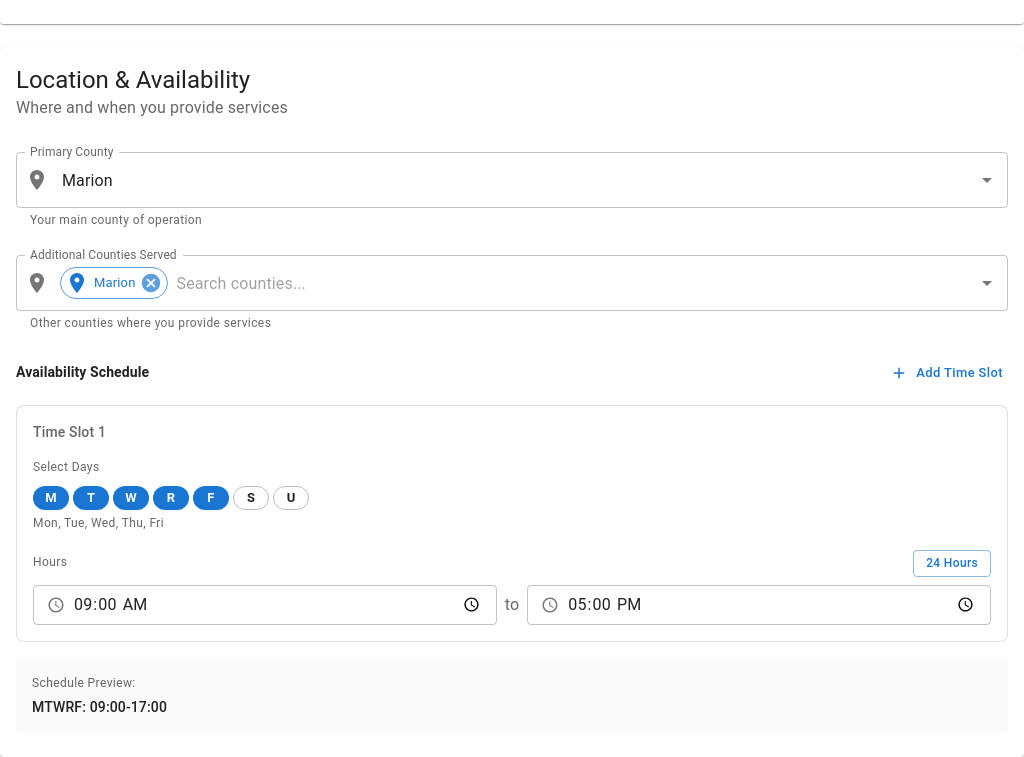
Test case: Edit Agency Page - Component Tests › Availability Schedule › Multiple Time Slots › can remove a time slot (when more than one exists)
The image size is (1024, 757).
(page scrolled)
Click the button "Add Time Slot".
click(948, 373)  # box [887, 358, 1008, 389]
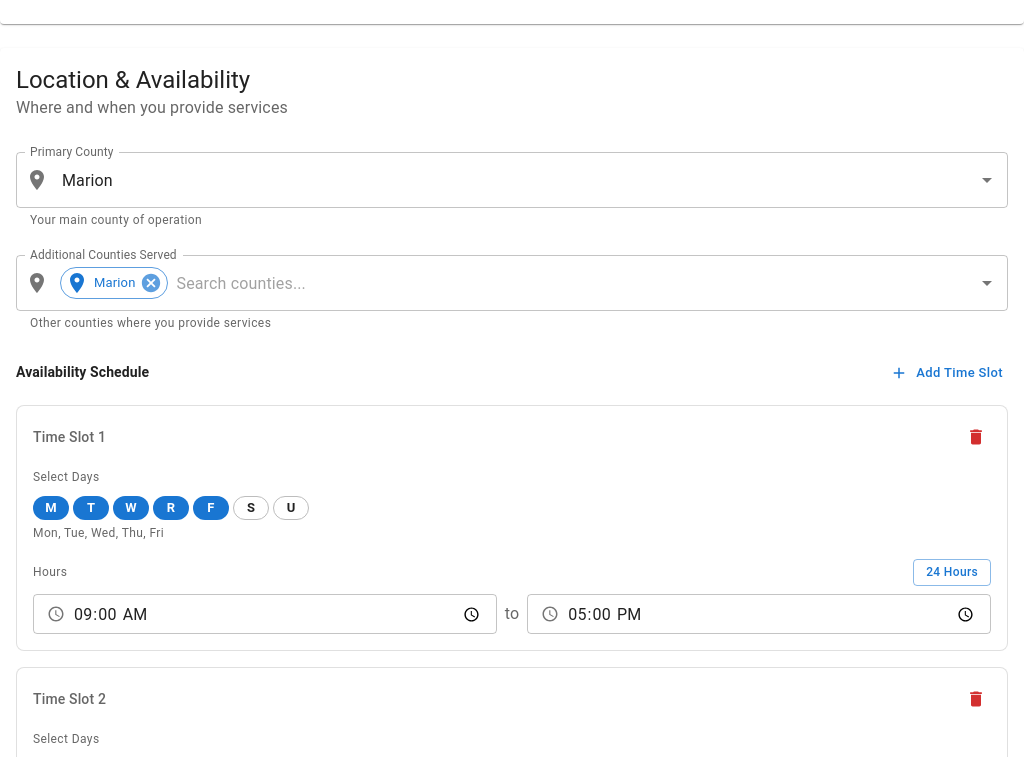
Click the button with test id "DeleteIcon".
click(976, 700)  # box [961, 684, 991, 714]
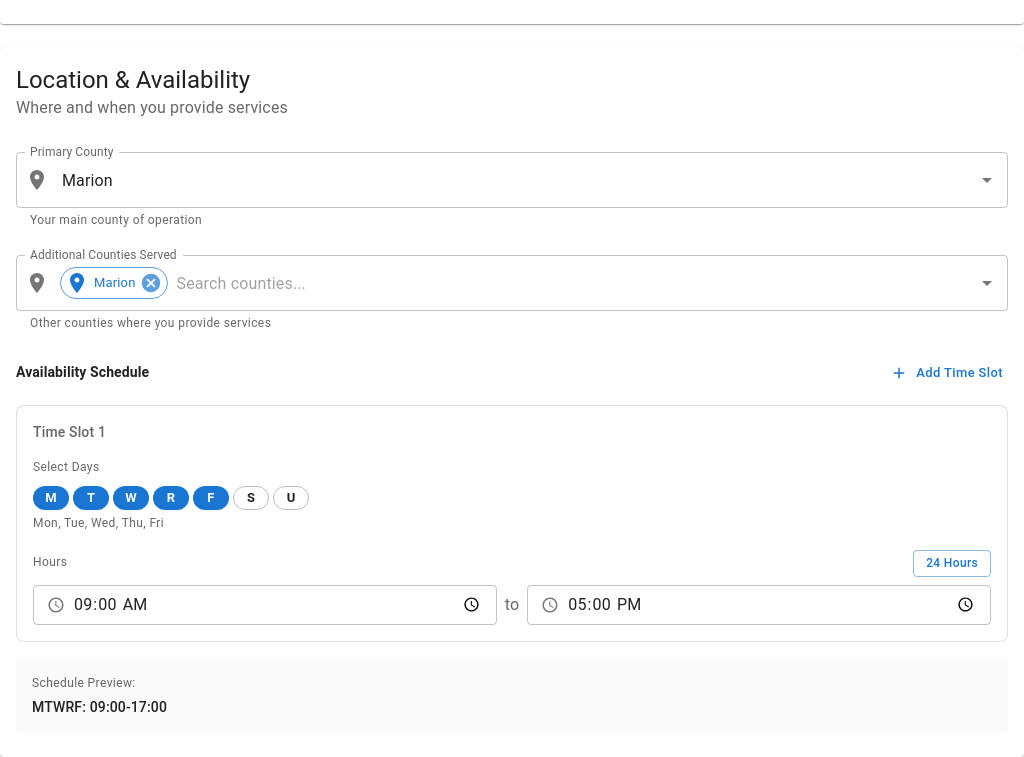
Check: the text "Time Slot 1" is shown, box [33, 422, 106, 442]
Check: the text "Time Slot 2" is gone
